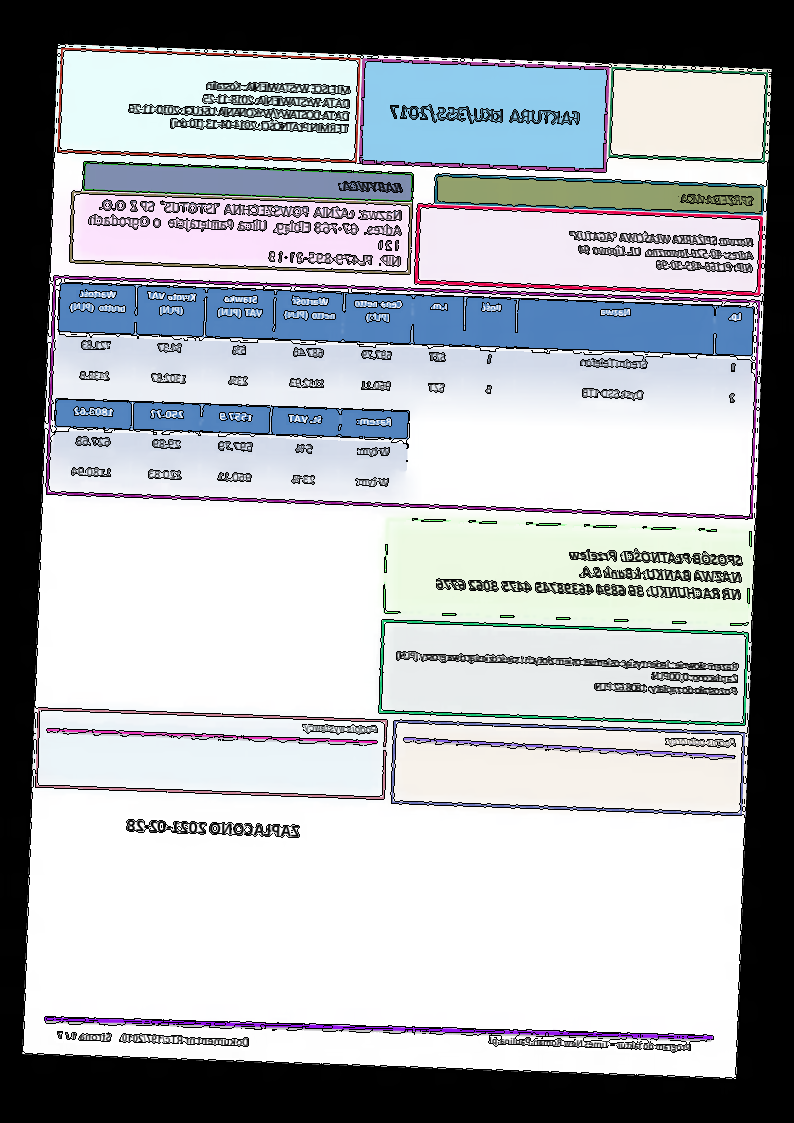Table: (55, 281, 756, 419), (50, 397, 410, 503)
TextBox: (87, 195, 406, 269), (435, 537, 746, 606), (391, 646, 740, 699), (128, 73, 353, 137), (567, 228, 756, 275), (388, 101, 582, 130), (486, 1033, 695, 1055), (125, 815, 301, 840), (52, 1027, 251, 1049), (676, 188, 758, 209), (299, 720, 380, 739), (664, 732, 739, 751), (336, 176, 405, 196)
